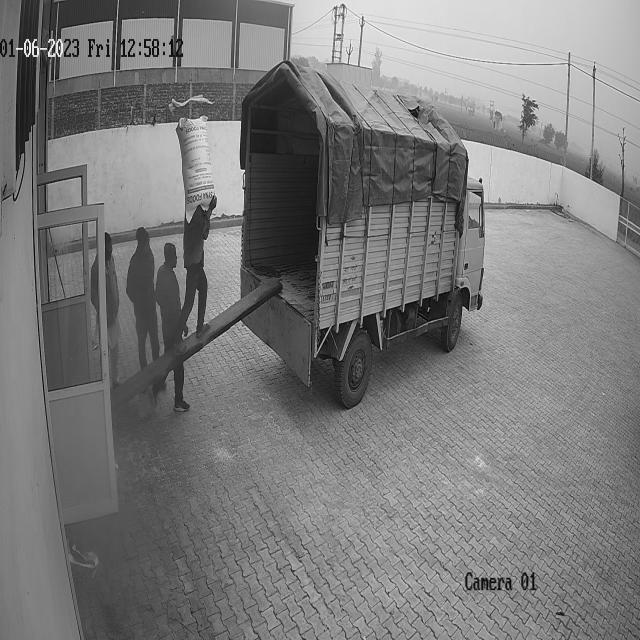sack: (176, 114, 214, 224)
